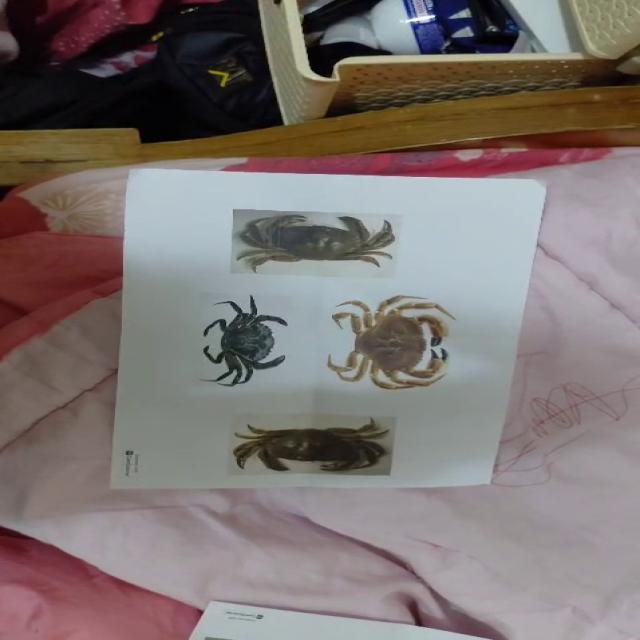egc: (202, 296, 287, 386)
